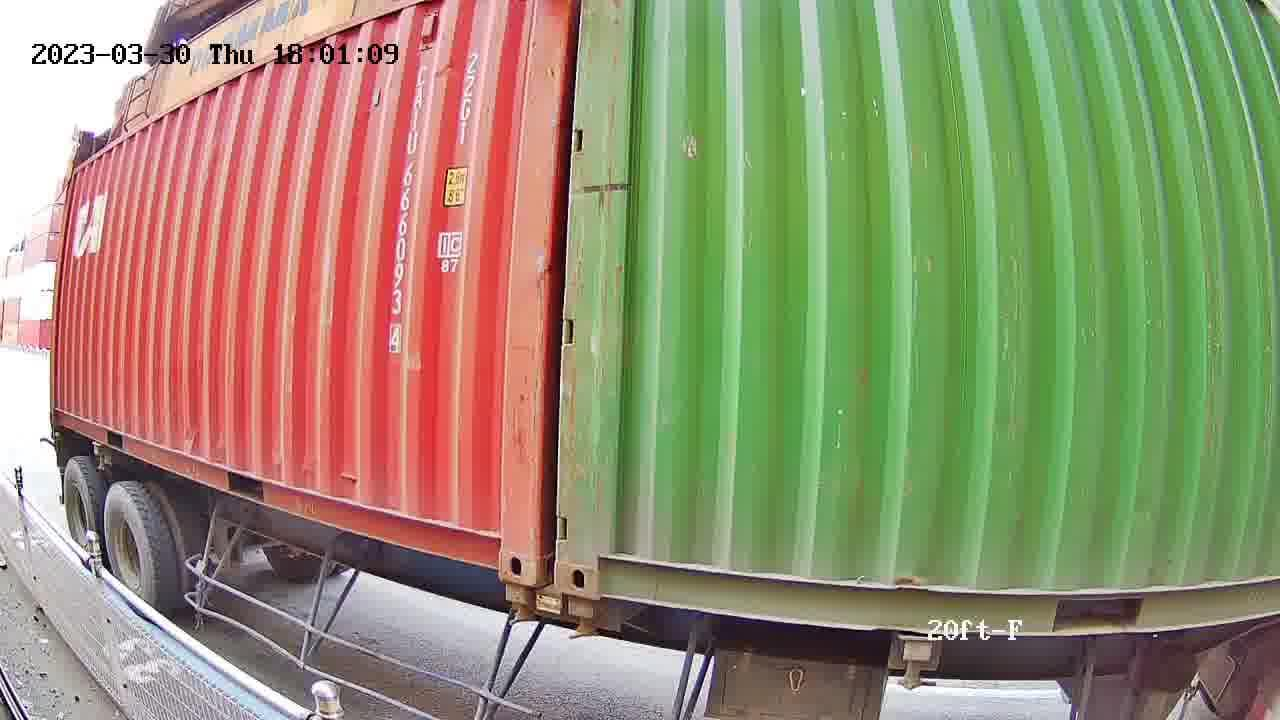Cone: (565, 595, 601, 640), (502, 584, 532, 627)
Hole_L: (554, 530, 642, 601)
Hole_R: (468, 509, 540, 585)
Tire: (102, 485, 157, 617), (63, 460, 99, 565)
